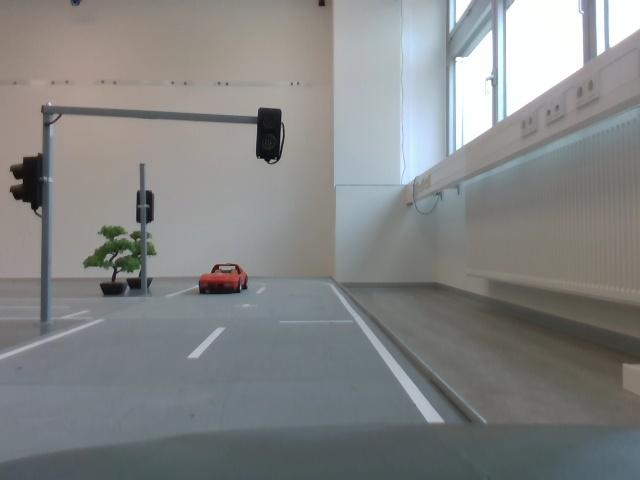car: (198, 256, 251, 299)
potted plant: (80, 221, 140, 297), (127, 227, 160, 297)
traffic light: (13, 149, 53, 224), (252, 105, 288, 170), (135, 187, 158, 230)
